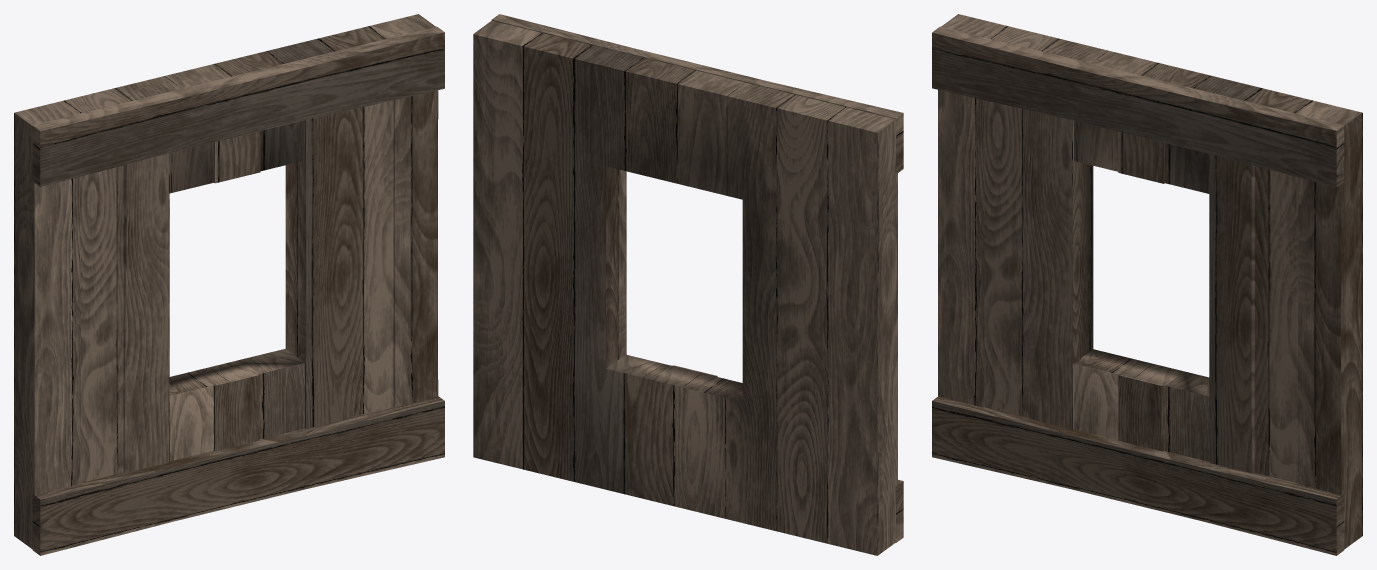
Rendered from SM_Wall_Window.fbx.
The picture shows the model from 3 angles, left to right: view 1: azimuth 30°, elevation 25°; view 2: azimuth 150°, elevation 25°; view 3: azimuth 330°, elevation 25°; orthographic projection.
Visible parts, largest first — view 1: SM_Wall_Window; view 2: SM_Wall_Window; view 3: SM_Wall_Window.
Part boxes in pixels (left/top/right/bottom): SM_Wall_Window: left=14, top=14, right=444, bottom=555; SM_Wall_Window: left=473, top=14, right=903, bottom=555; SM_Wall_Window: left=932, top=14, right=1362, bottom=555.
Size of the model in its own units: 300 by 301 by 33.75.
